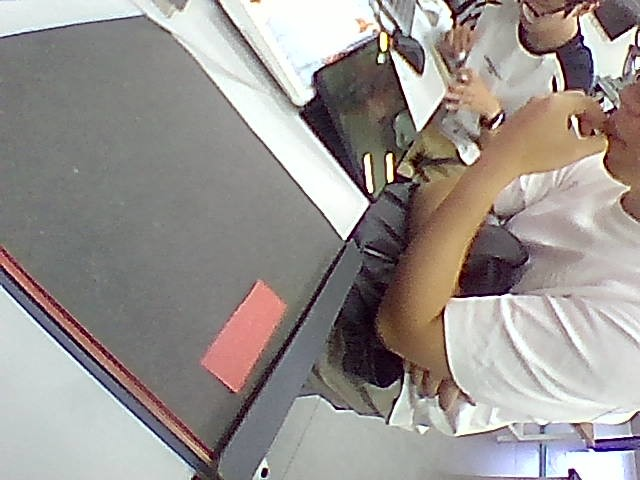card: (201, 280, 286, 391)
